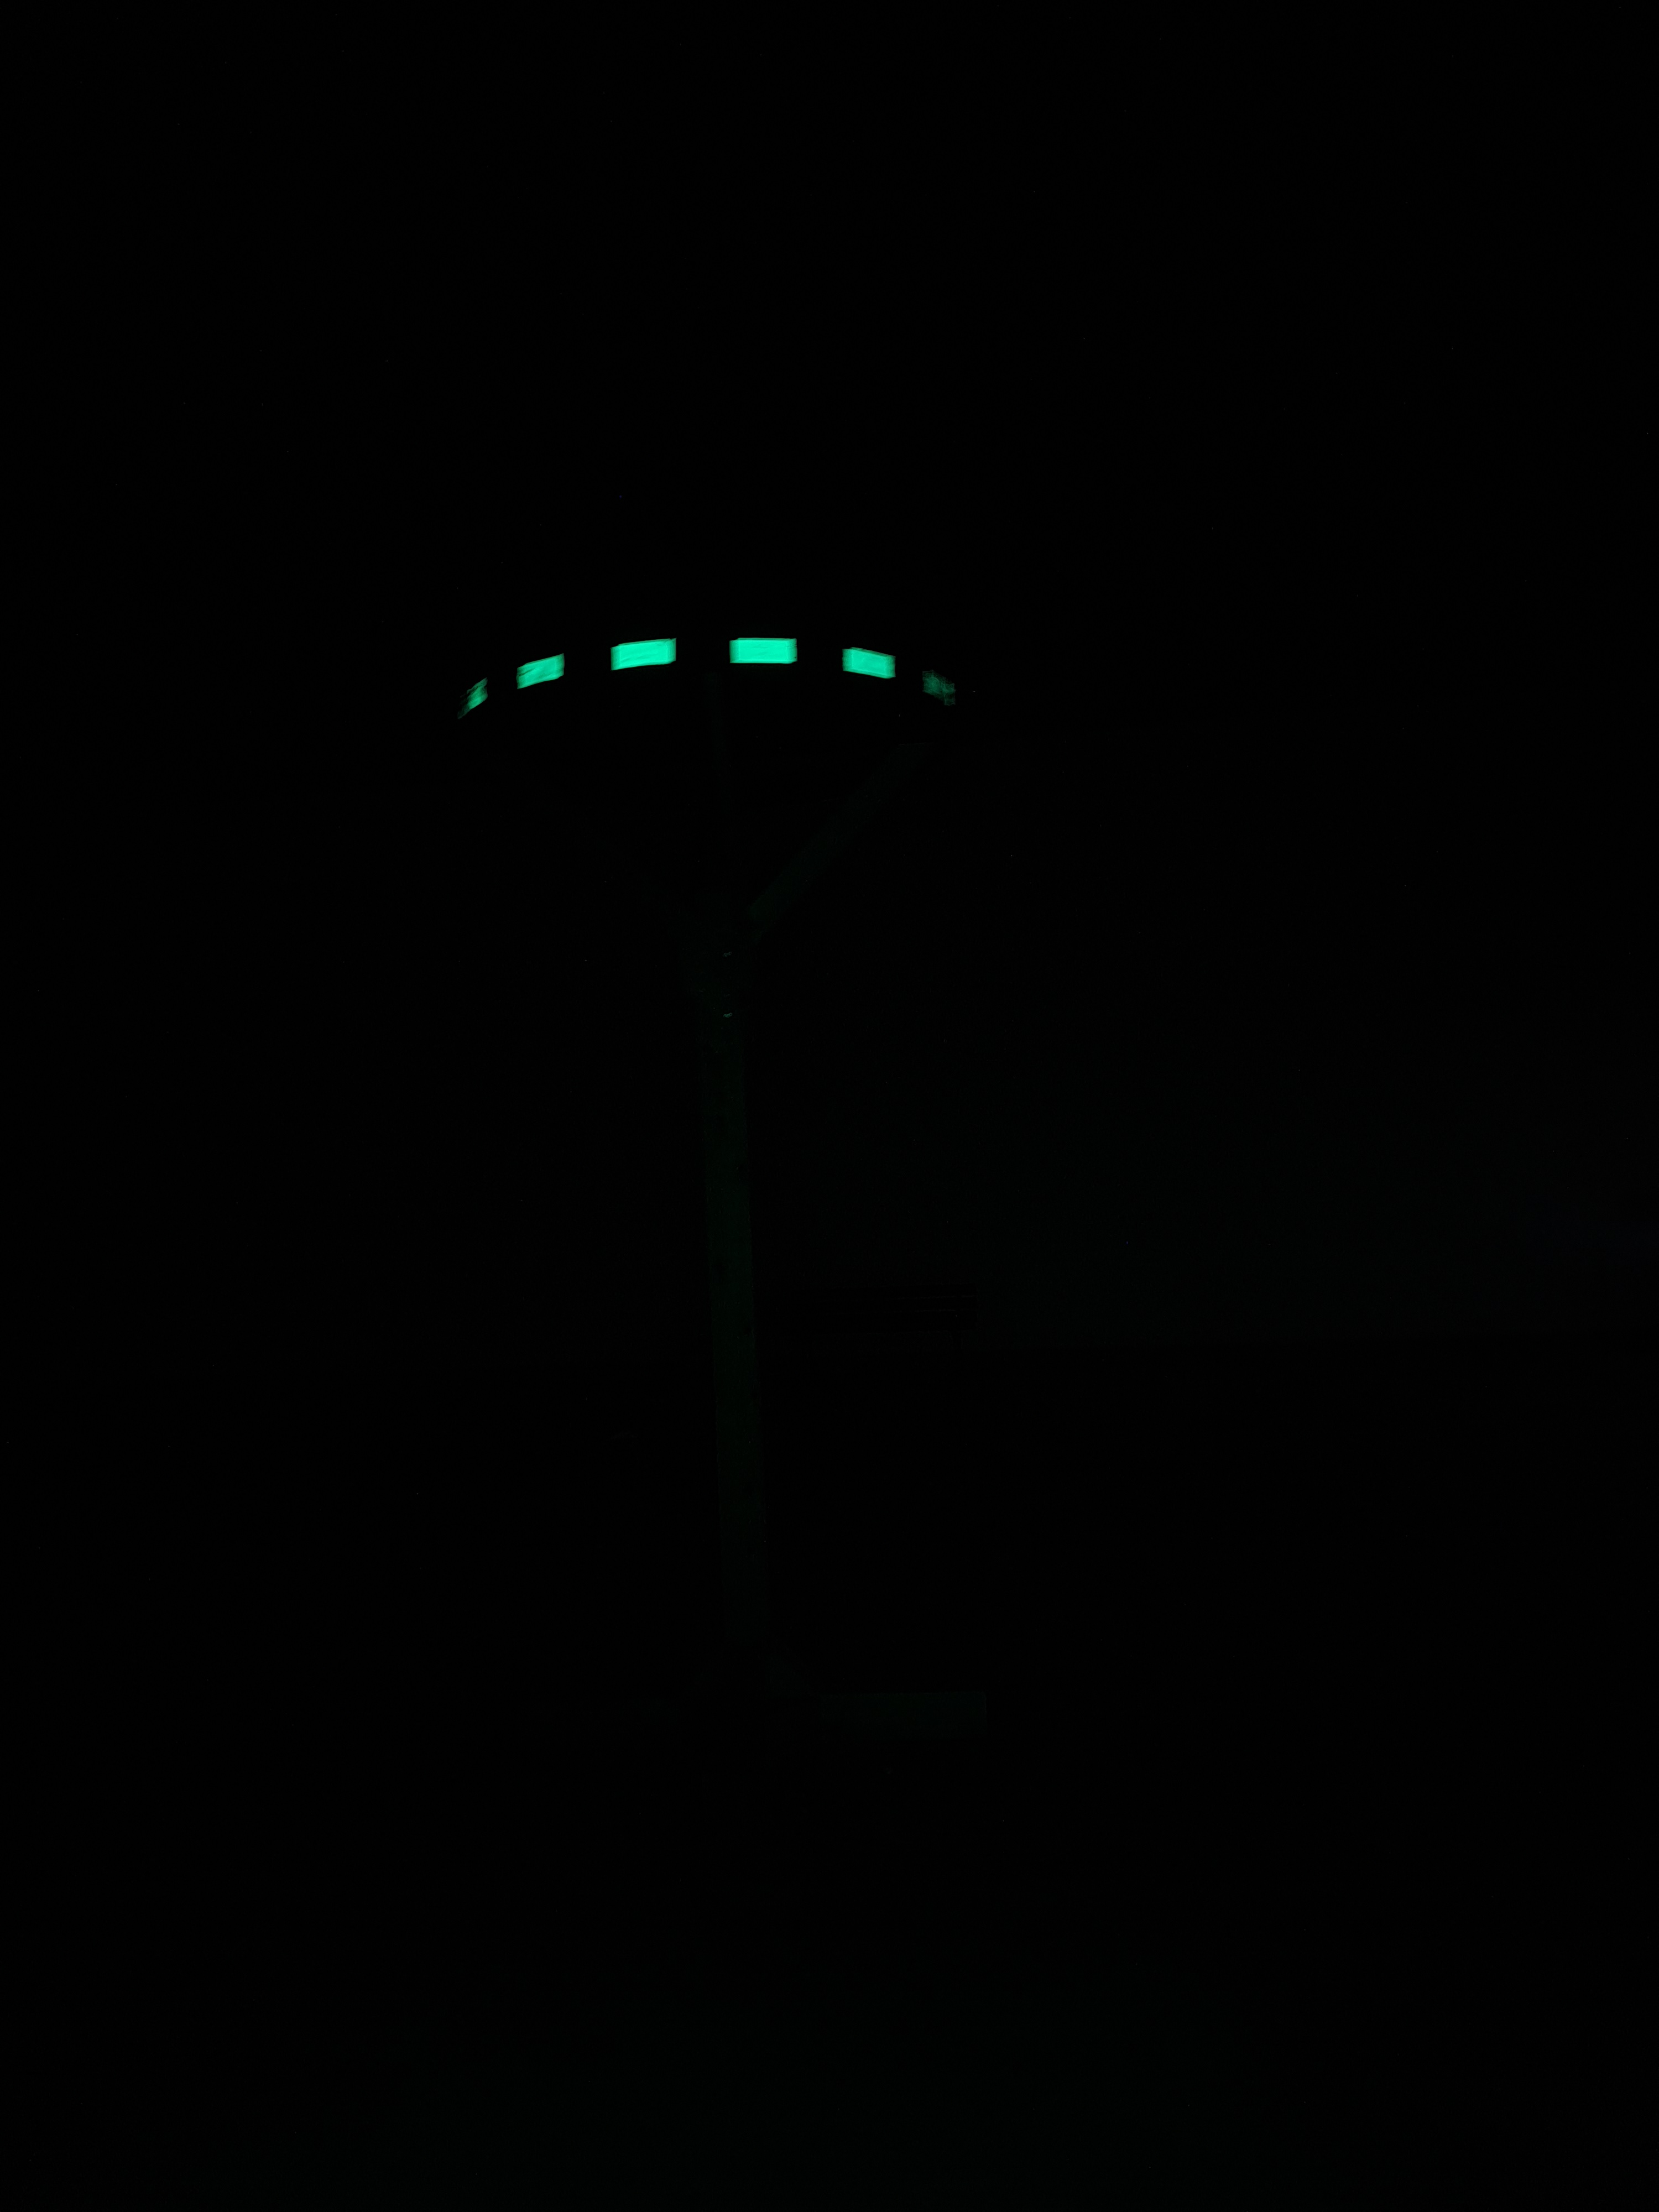hoop: (444, 624, 960, 738)
